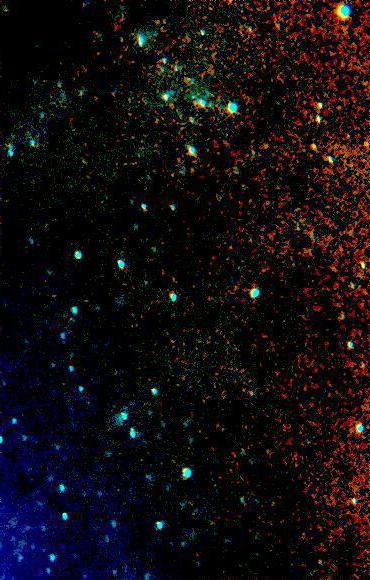star: (351, 129, 370, 159)
